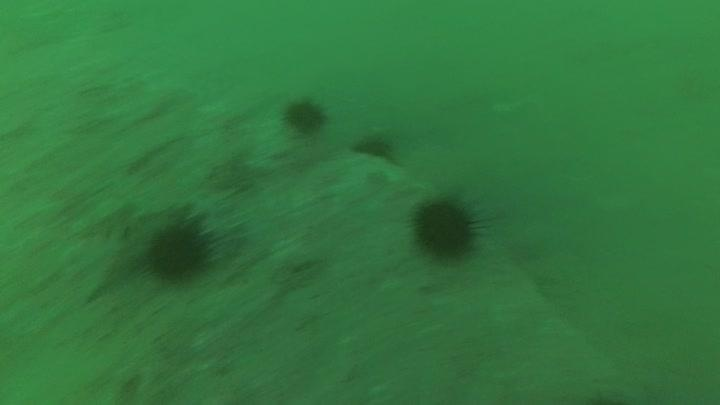echinus: (407, 190, 487, 264), (140, 212, 218, 286), (281, 95, 329, 136), (351, 130, 398, 165)
starfish: (71, 224, 147, 306)
